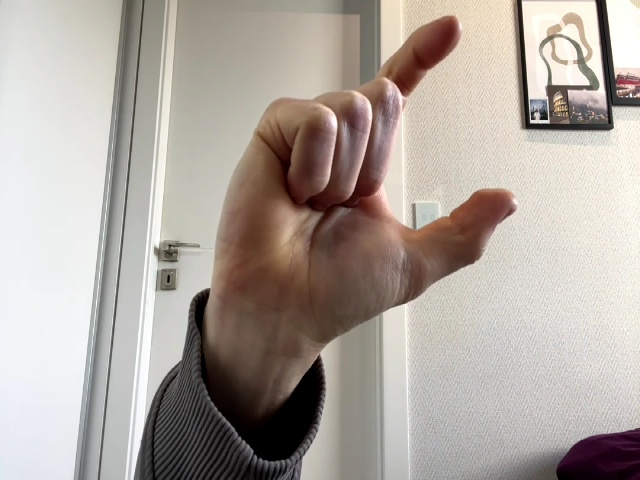C: (212, 17, 518, 348)
